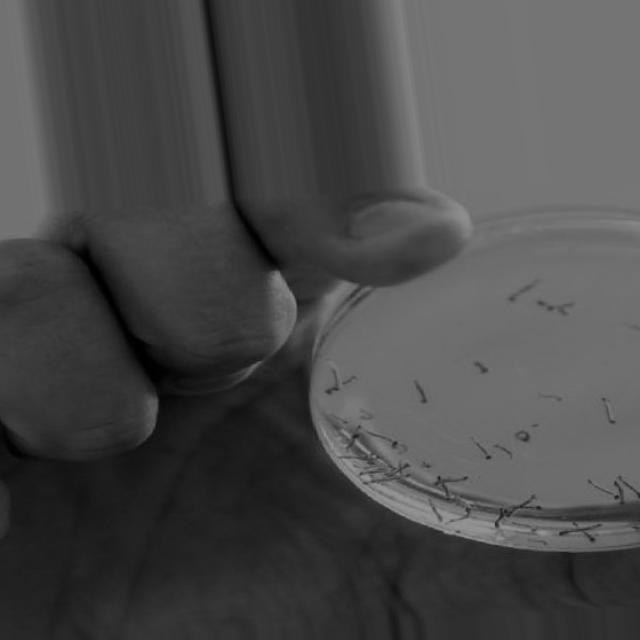larvas: (507, 275, 534, 299), (368, 426, 396, 448), (508, 494, 534, 517), (588, 476, 613, 497), (619, 471, 640, 495), (472, 434, 489, 463), (601, 393, 614, 426), (558, 524, 598, 534), (513, 520, 537, 535), (450, 507, 472, 523), (336, 453, 366, 463), (539, 390, 560, 404), (362, 475, 394, 484), (428, 499, 441, 521), (548, 300, 575, 310), (414, 382, 426, 404), (360, 468, 392, 476), (494, 443, 511, 458), (494, 507, 506, 527), (329, 410, 346, 424), (474, 361, 488, 377), (446, 475, 466, 486), (438, 478, 448, 498), (616, 480, 625, 500), (528, 538, 548, 547), (398, 440, 408, 457), (346, 434, 358, 448), (343, 374, 356, 386), (396, 461, 409, 473), (584, 528, 595, 542), (516, 430, 528, 442), (359, 407, 370, 419), (526, 503, 542, 511), (333, 368, 339, 389), (538, 297, 546, 310), (326, 387, 334, 394)
